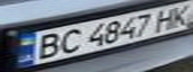4: (84, 20, 109, 48), (118, 15, 142, 40)
7: (130, 11, 157, 37)
8: (103, 18, 124, 45)
B: (27, 30, 66, 60)
C: (54, 26, 84, 55)
H: (151, 6, 184, 31)
K: (166, 2, 193, 28)
